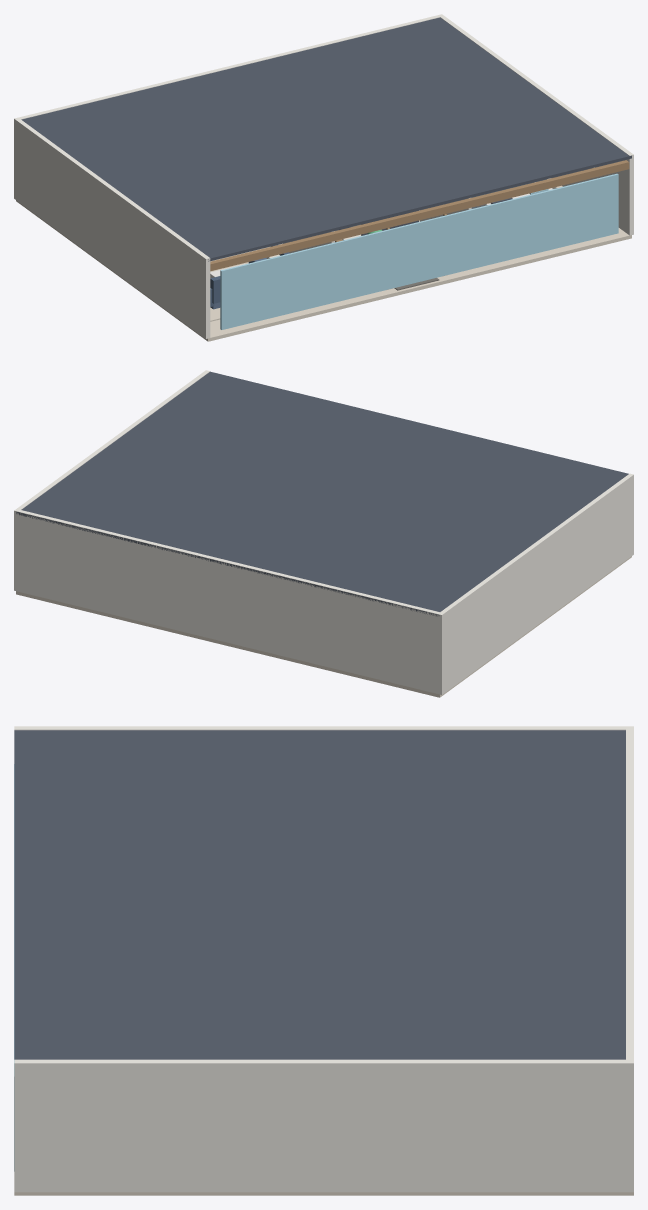
File: villa-interior.glb
The picture shows the model from 3 angles, top to bottom: view 1: azimuth 30°, elevation 25°; view 2: azimuth 150°, elevation 25°; view 3: azimuth 270°, elevation 25°; orthographic projection. The views are drawn at different scales.
Parts seen in each view (by area): view 1: thin ceiling plane, front glass facade, left exterior wall, front teak header beam, continuous premium villa floor slab, right exterior wall, full back wall; view 2: thin ceiling plane, full back wall, left exterior wall, continuous premium villa floor slab, right exterior wall; view 3: thin ceiling plane, right exterior wall, left exterior wall, full back wall, continuous premium villa floor slab.
Boxes of the visible parts, x1,y1,x2,y2 form: thin ceiling plane: (21, 17, 631, 261); front glass facade: (220, 173, 618, 329); left exterior wall: (14, 118, 210, 338); front teak header beam: (210, 160, 629, 271); continuous premium villa floor slab: (16, 178, 631, 341); right exterior wall: (440, 14, 633, 235); full back wall: (16, 15, 441, 119); thin ceiling plane: (16, 371, 628, 616); full back wall: (16, 509, 441, 694); left exterior wall: (437, 473, 633, 694); continuous premium villa floor slab: (16, 556, 631, 697); right exterior wall: (14, 370, 209, 590); thin ceiling plane: (14, 730, 625, 1059); right exterior wall: (14, 1059, 633, 1192); left exterior wall: (14, 726, 633, 730); full back wall: (626, 728, 633, 1061); continuous premium villa floor slab: (14, 1192, 633, 1195).
Bounding box in the file's own units: 15.96 × 2.97 × 12.41.
